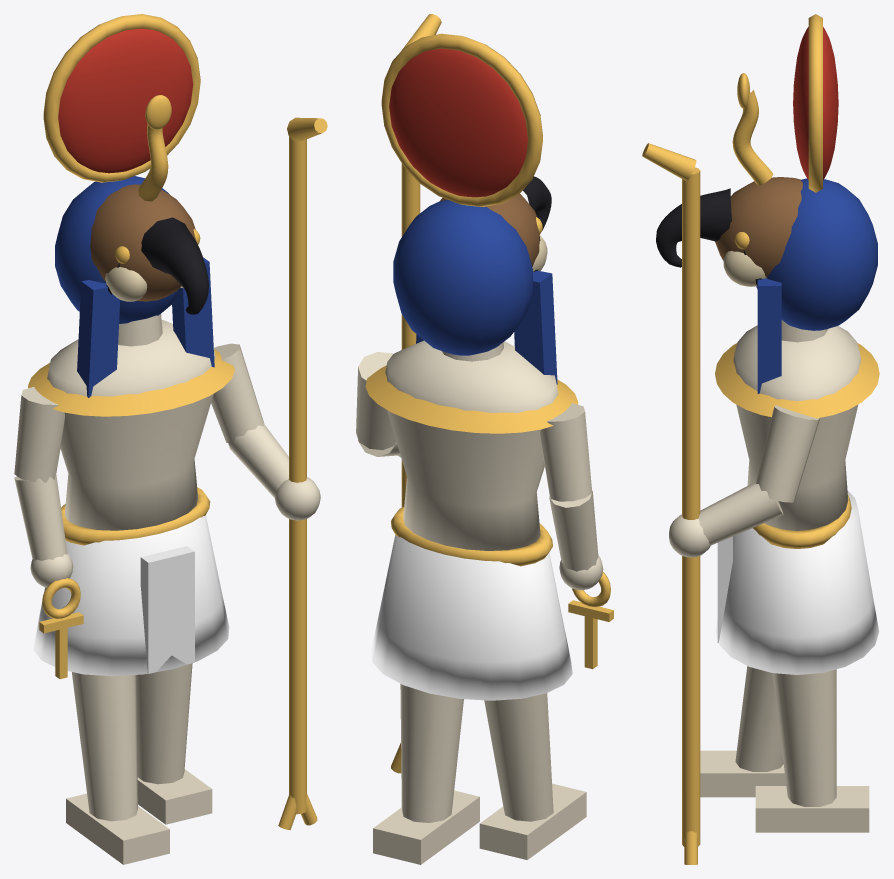
The model's file is god-ra.glb.
The picture shows the model from 3 angles, left to right: view 1: azimuth 30°, elevation 25°; view 2: azimuth 150°, elevation 25°; view 3: azimuth 270°, elevation 25°; orthographic projection. The views are drawn at different scales.
Parts seen in each view (by area): view 1: figurka; view 2: figurka; view 3: figurka.
Boxes of the visible parts, x1,y1,x2,y2 form: figurka: (14,14,327,864); figurka: (356,14,613,864); figurka: (642,14,879,864).
Bounding box in the file's own units: 0.373 × 1.14 × 0.3131.
